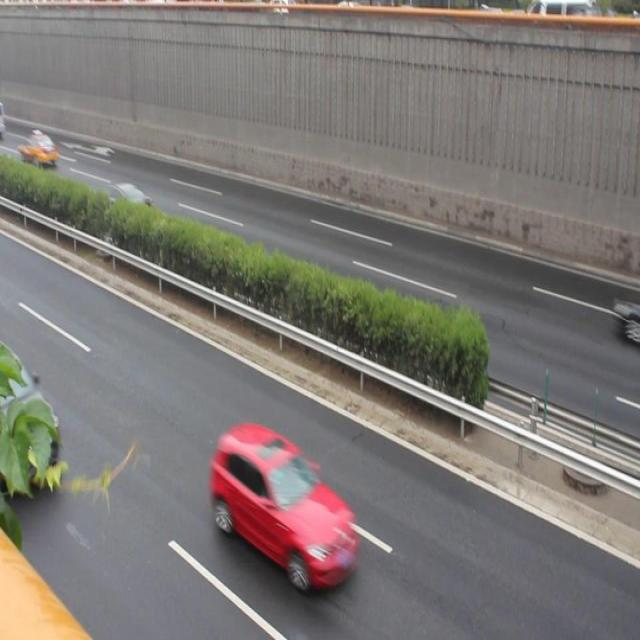car: (208, 419, 358, 582), (97, 176, 148, 223), (18, 128, 60, 174)
